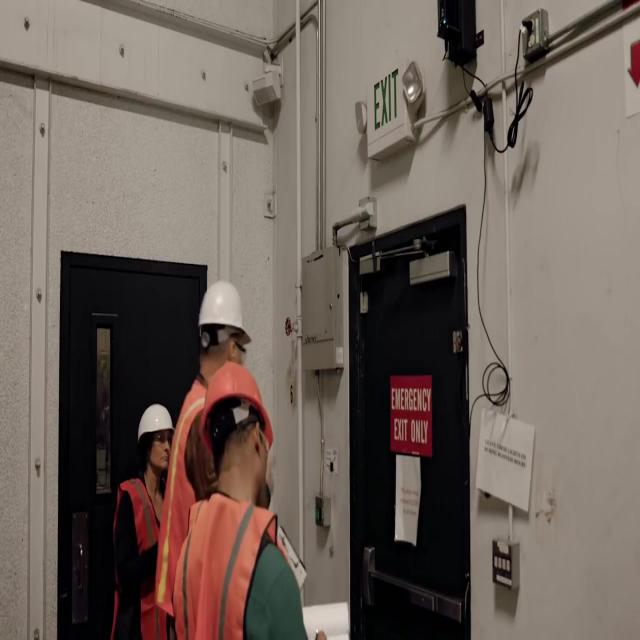Reflective-Jacket: (168, 488, 306, 640), (104, 469, 176, 639)
Safety-Helmet: (192, 359, 283, 464), (187, 268, 257, 356), (130, 392, 178, 452)
